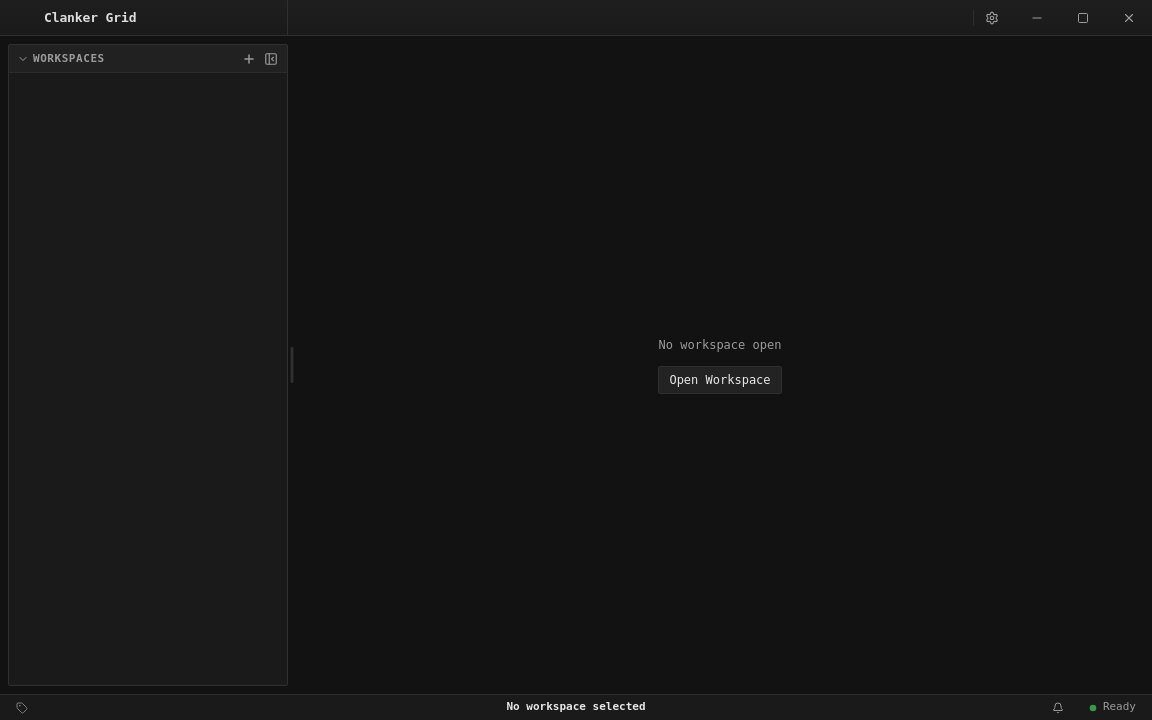
normal application shell and workspace identity opening › uses main canonical identity and selects post-canonical duplicates
Check: the text "No workspace open" is shown, box [659,336,781,354]
Click the button named "Open Workspace" at (249, 58), box [239,48,259,68]
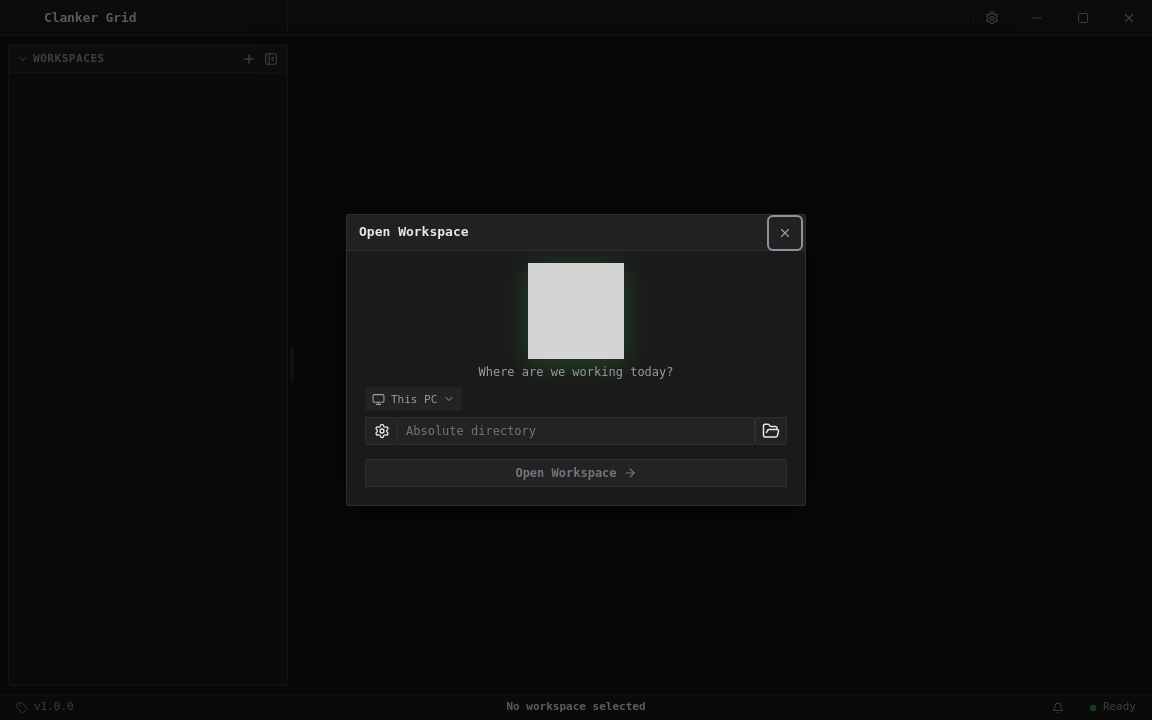
Click the button named "Choose Folder…" at (771, 431), box [755,417,787,445]
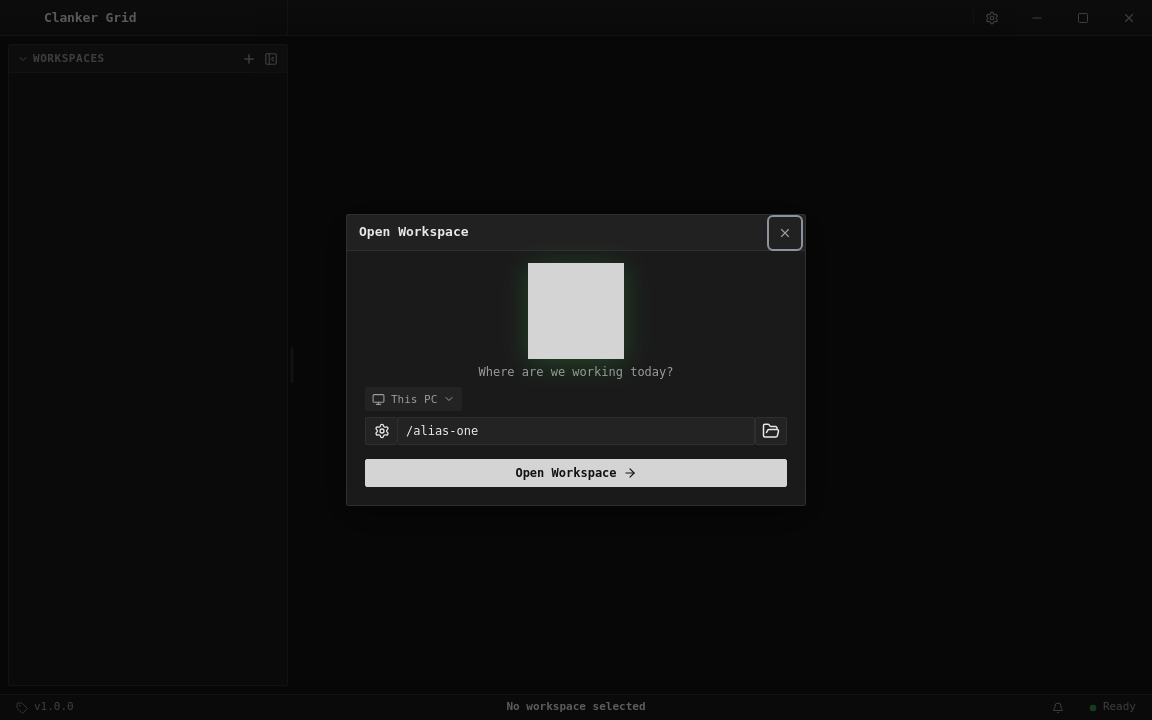
Check: the field showing "/alias-one" is shown, box [397,417,755,445]
Click the button "Open Workspace" at (576, 473), box [365,459,787,487]
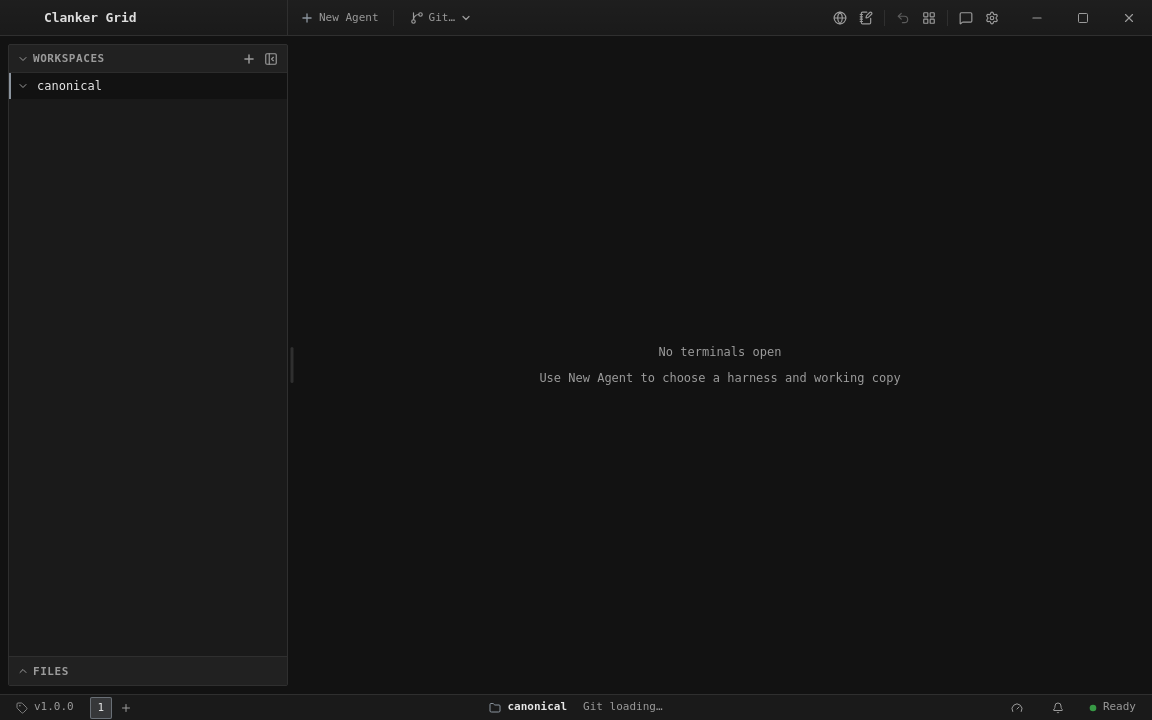
Check: the button "Open Workspace" is gone
Click the button named "Open Workspace" at (249, 58), box [239,48,259,68]
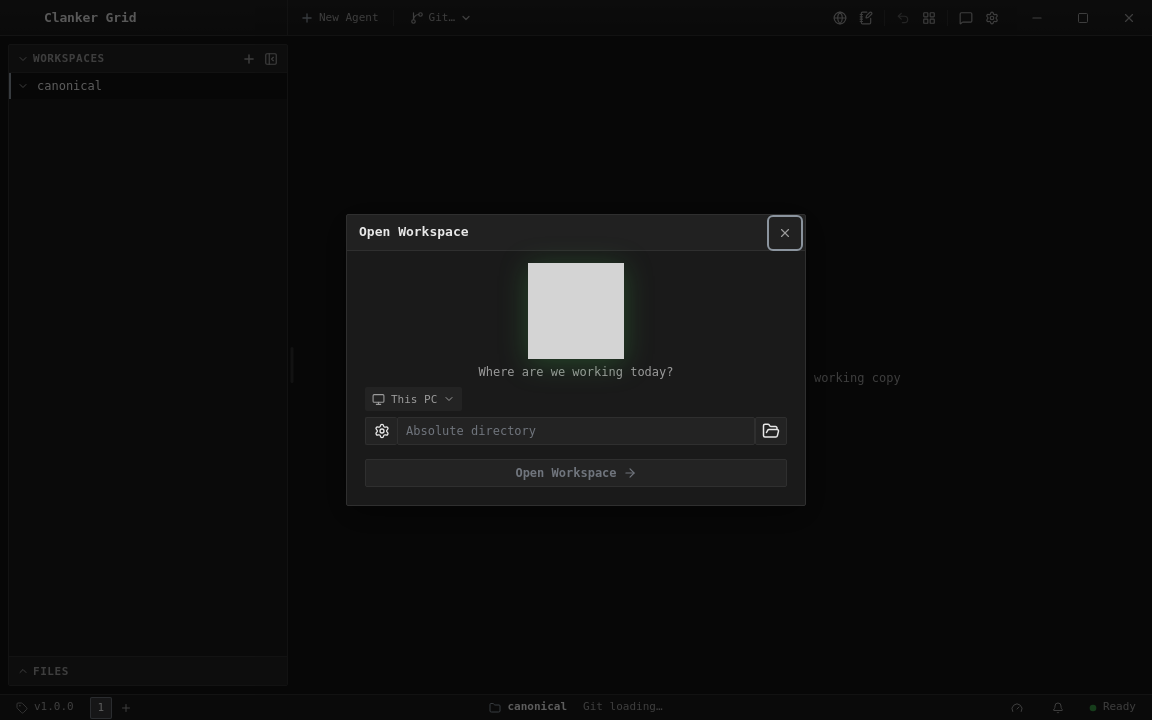
Click the button named "Choose Folder…" at (771, 431), box [755,417,787,445]
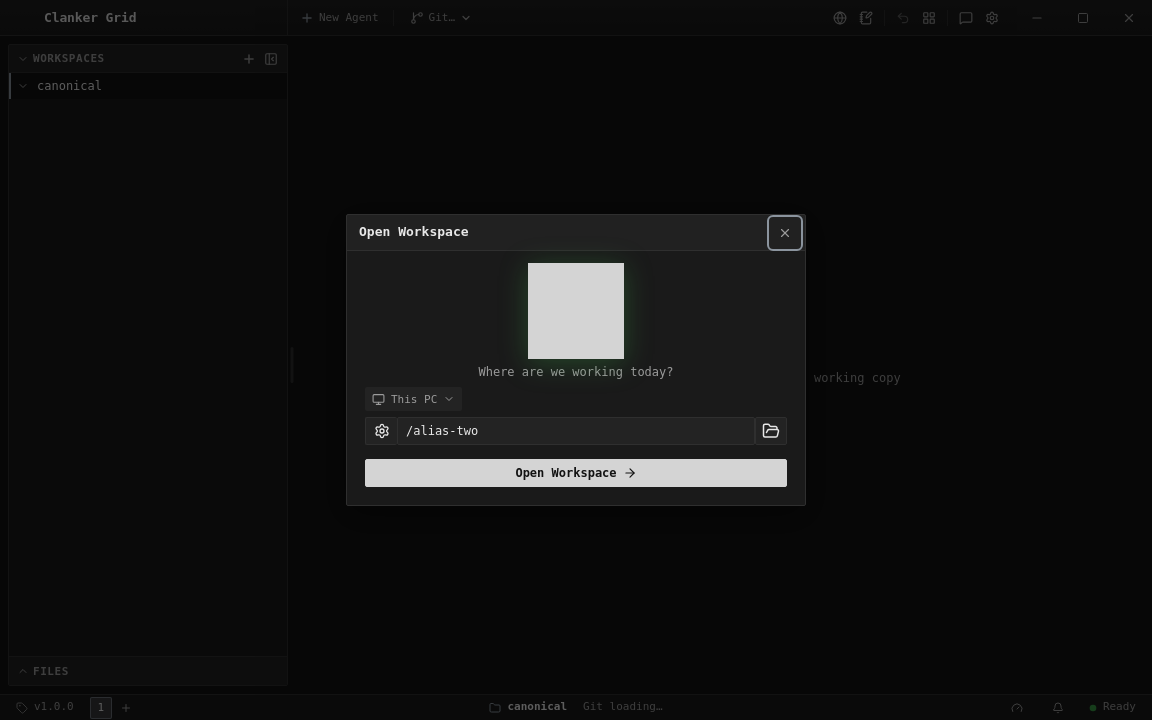
Check: the field showing "/alias-two" is shown, box [397,417,755,445]
Click the button "Open Workspace" at (576, 473), box [365,459,787,487]
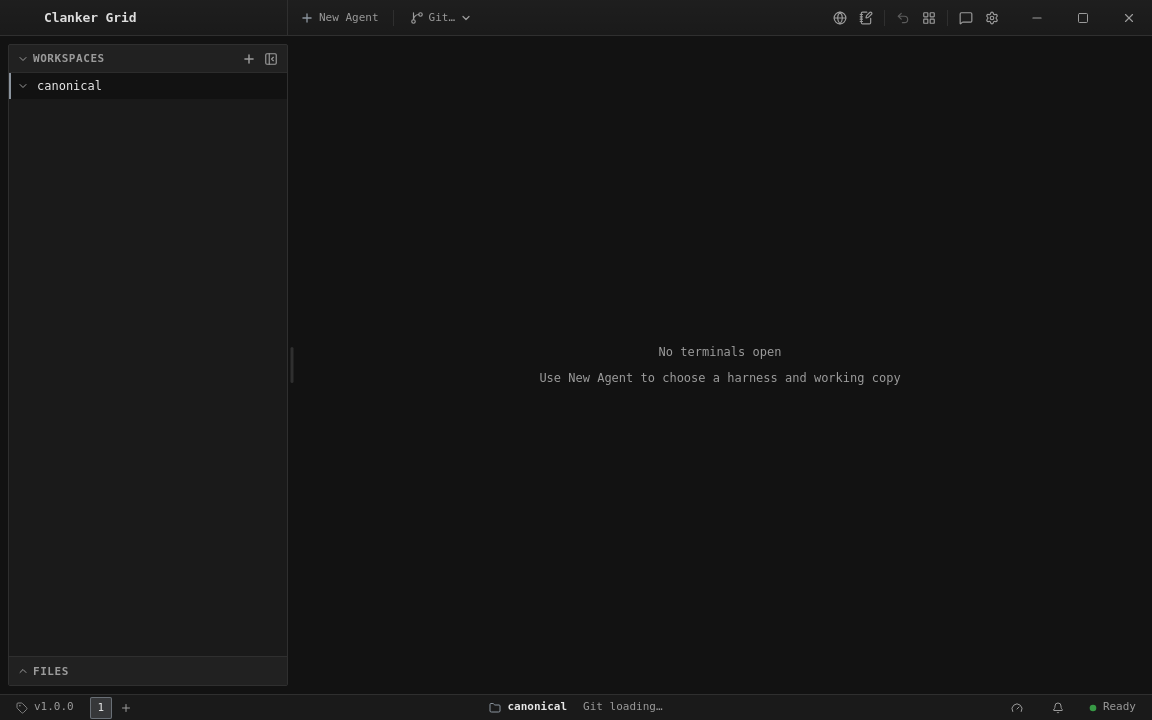
Check: the heading "Open Workspace" is gone
